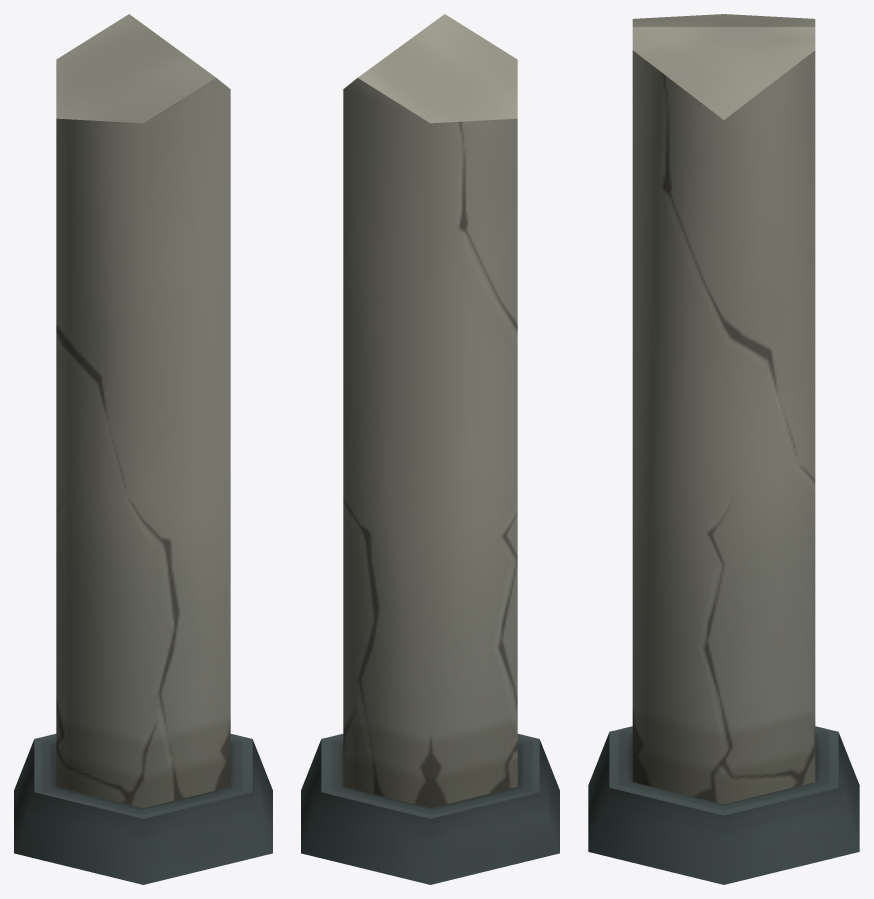
The model's file is Dg_01_pillar_007.FBX.
3 views of the same model, side by side, from view 1: azimuth 30°, elevation 25°; view 2: azimuth 150°, elevation 25°; view 3: azimuth 270°, elevation 25° (orthographic). The views are drawn at different scales.
Visible parts, largest first — view 1: Dg_01_pillar_007; view 2: Dg_01_pillar_007; view 3: Dg_01_pillar_007.
Boxes of the visible parts, x1,y1,x2,y2 form: Dg_01_pillar_007: [14, 14, 272, 884]; Dg_01_pillar_007: [301, 14, 559, 884]; Dg_01_pillar_007: [588, 14, 859, 884].
Size of the model in its own units: 0.8649 by 2.45 by 0.749.
